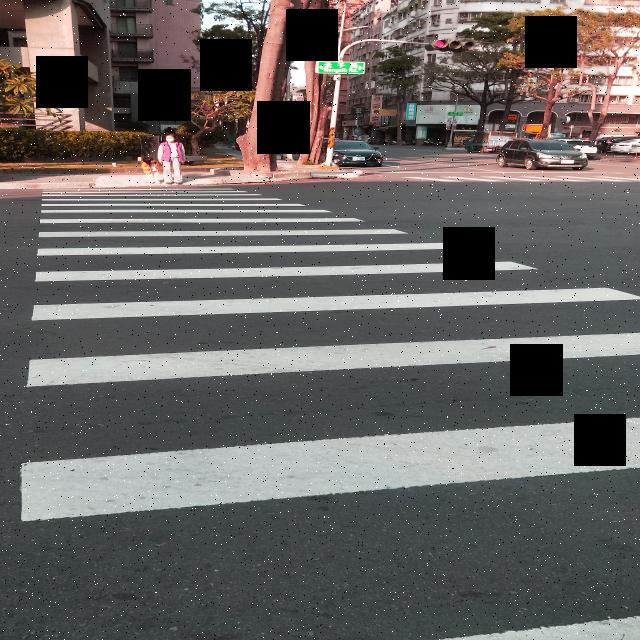zebra_crossing: (22, 186, 640, 529), (158, 134, 184, 185), (402, 177, 640, 181), (140, 158, 160, 185)
